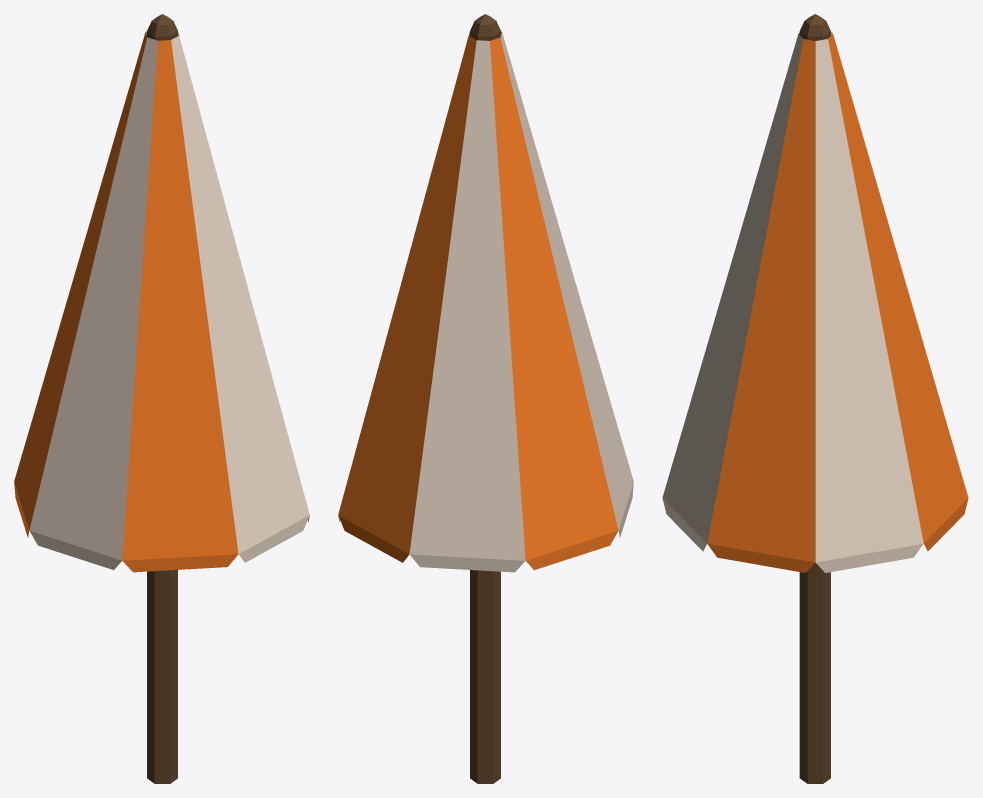
Rendered from sunscreen-closed.glb.
3 renders of one model, left to right at view 1: azimuth 30°, elevation 25°; view 2: azimuth 150°, elevation 25°; view 3: azimuth 270°, elevation 25°, orthographic.
Visible parts, largest first — view 1: sunscreen-closed; view 2: sunscreen-closed; view 3: sunscreen-closed.
Boxes of the visible parts, left/top/right/bottom form: sunscreen-closed: left=14, top=14, right=309, bottom=783; sunscreen-closed: left=338, top=14, right=633, bottom=783; sunscreen-closed: left=662, top=14, right=968, bottom=783.
Size of the model in its own units: 0.8022 by 2.21 by 0.8022.
1 material, 1 textured.
